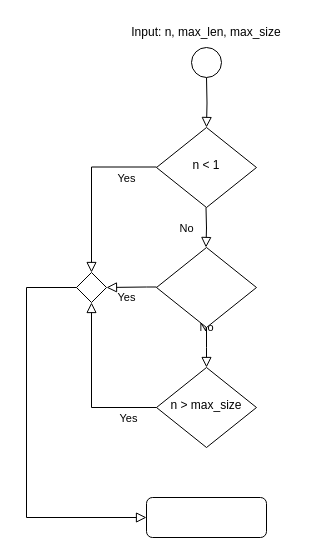
The diagram is 309 pixels wide and 555 high, and some of its shapes have lost their labels. Each missing label, with the centre of its shape:
max_len <= 0: the point at 206,287
return 0: the point at 206,517
